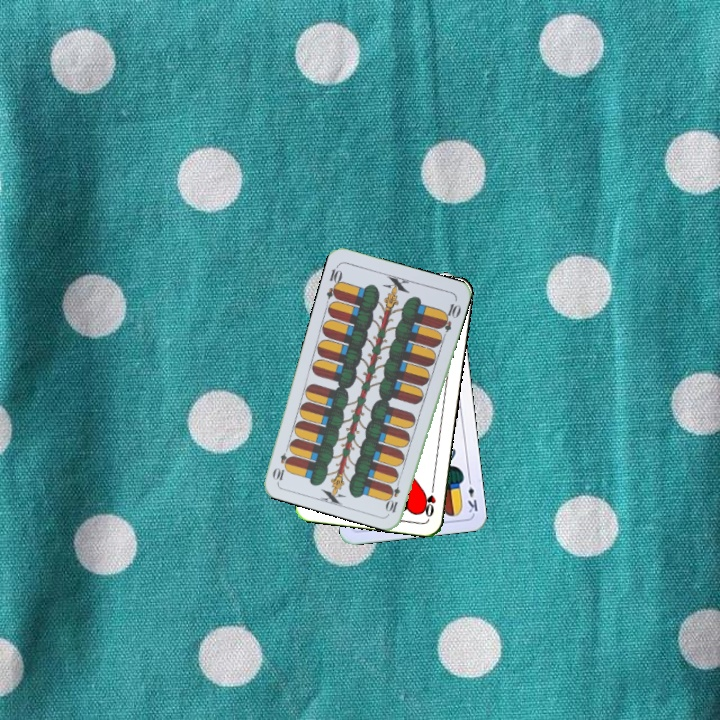E10: (322, 261, 345, 302), (383, 475, 403, 515)
EK: (464, 474, 480, 515)
HO: (420, 480, 438, 519)
